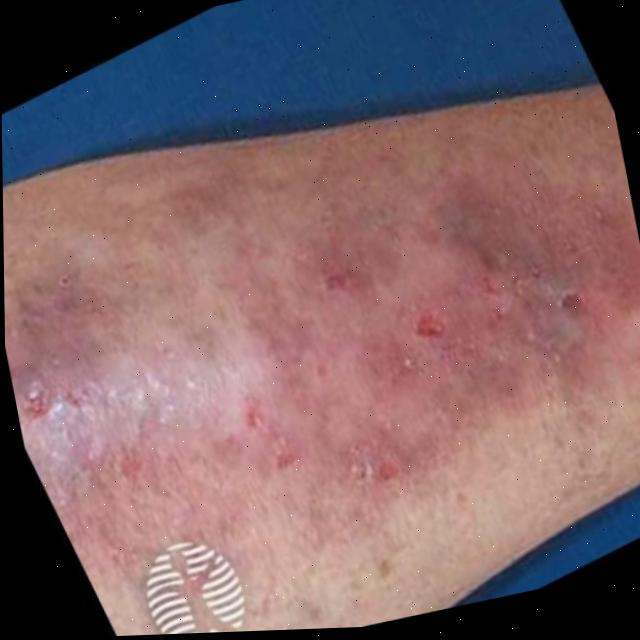Eczema: (2, 78, 640, 527)
